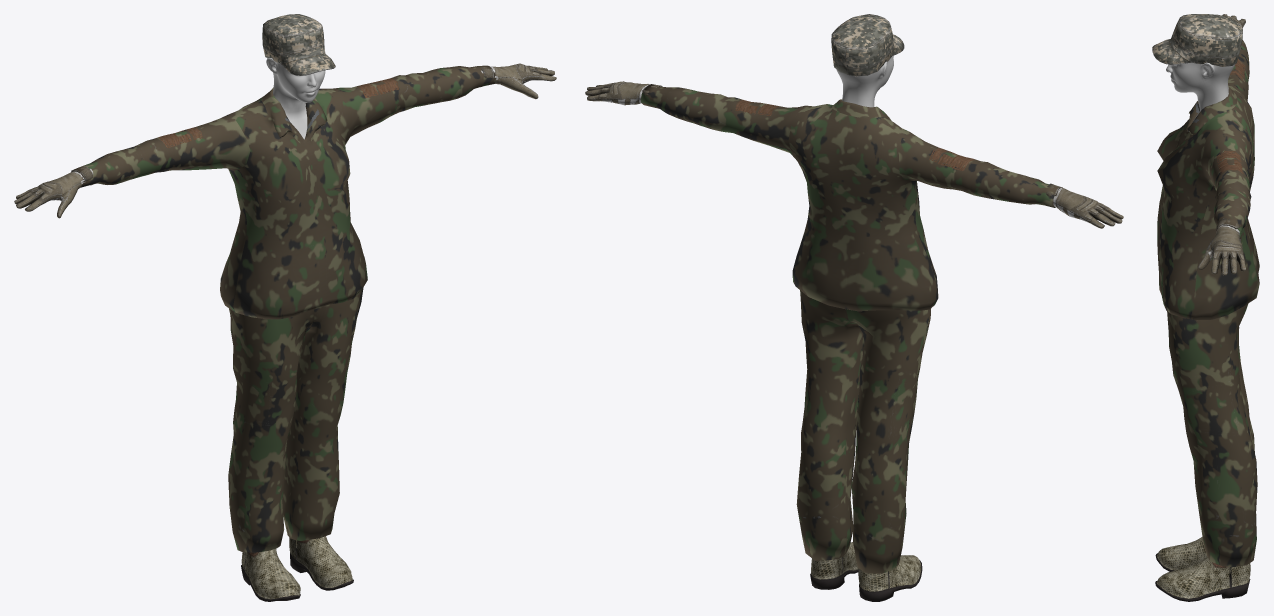
Rendered from moedl17.obj.
3 views of the same model, side by side, from view 1: azimuth 30°, elevation 25°; view 2: azimuth 150°, elevation 25°; view 3: azimuth 270°, elevation 25° (orthographic).
Visible parts, largest first — view 1: Tops, Bottoms, Shoes, Hats, Gloves, Body; view 2: Tops, Bottoms, Hats, Shoes, Gloves, Body; view 3: Tops, Bottoms, Shoes, Hats, Body, Gloves.
Boxes of the visible parts, box(x1,y1,x2,y2) form: Tops: box(71, 65, 496, 319); Bottoms: box(228, 288, 363, 552); Shoes: box(241, 536, 353, 601); Hats: box(262, 14, 335, 75); Gloves: box(14, 63, 556, 218); Body: box(266, 58, 325, 139); Tops: box(640, 84, 1062, 311); Bottoms: box(796, 290, 930, 573); Hats: box(831, 14, 904, 76); Shoes: box(810, 542, 922, 601); Gloves: box(585, 81, 1123, 228); Body: box(836, 55, 893, 107); Tops: box(1157, 39, 1259, 320); Bottoms: box(1167, 303, 1257, 566); Shoes: box(1155, 537, 1250, 601); Hats: box(1152, 14, 1242, 66); Body: box(1166, 62, 1235, 122); Gloves: box(1198, 14, 1246, 275).
Bounding box in the file's own units: 179 × 179 × 31.12.
